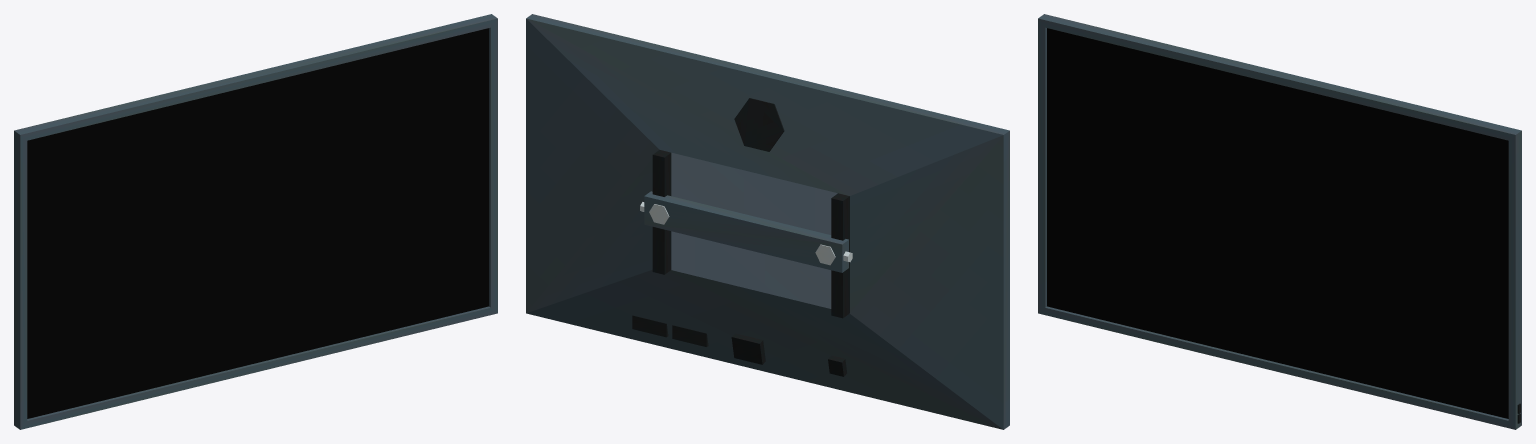
Rendered from Screen.glb.
3 renders of one model, left to right at view 1: azimuth 30°, elevation 25°; view 2: azimuth 150°, elevation 25°; view 3: azimuth 330°, elevation 25°, orthographic.
Visible parts, largest first — view 1: Screen, Display; view 2: Display; view 3: Screen, Display.
Part boxes in pixels (x1=…): Screen: x1=27, y1=28, x2=488, y2=418; Display: x1=14, y1=14, x2=497, y2=429; Display: x1=526, y1=14, x2=1009, y2=429; Screen: x1=1047, y1=28, x2=1508, y2=418; Display: x1=1038, y1=14, x2=1521, y2=429.
Size of the model in its own units: 12.43 by 7.32 by 1.24.
2 materials, 1 textured.
